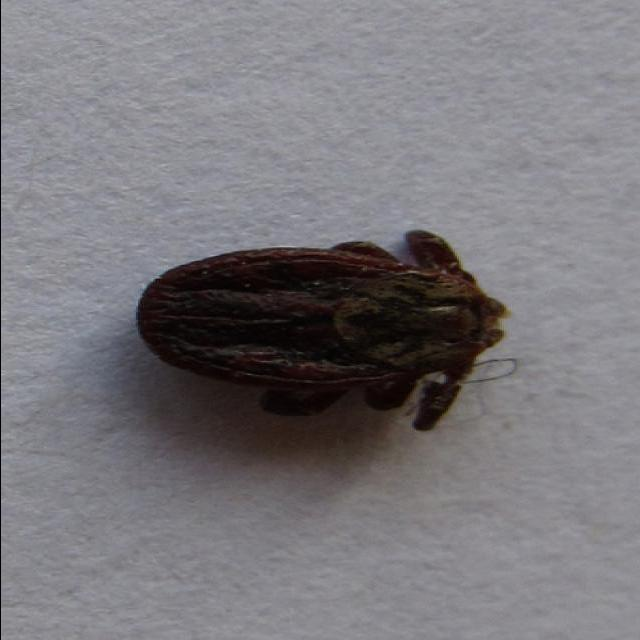Dermacentor Reticulatus-F: (133, 229, 507, 433)
